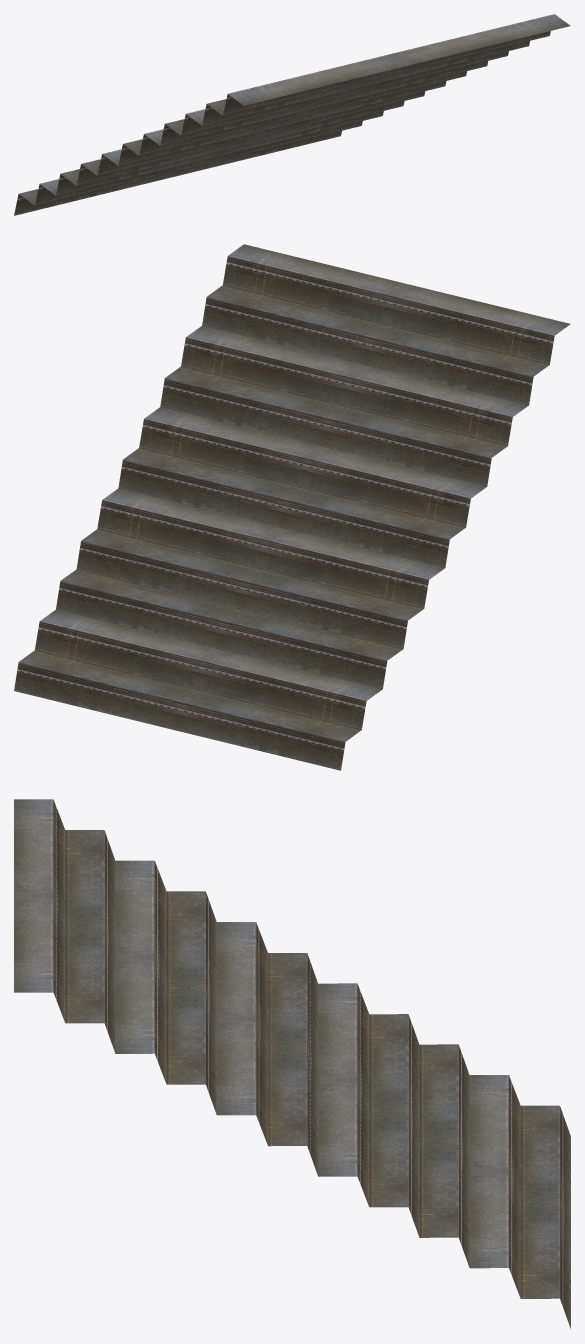
The model's file is dcfx2_louti_03.FBX.
3 views of the same model, one above another, from view 1: azimuth 30°, elevation 25°; view 2: azimuth 150°, elevation 25°; view 3: azimuth 270°, elevation 25° (orthographic). The views are drawn at different scales.
Visible parts, largest first — view 1: dcfx2_louti_03; view 2: dcfx2_louti_03; view 3: dcfx2_louti_03.
Boxes of the visible parts, x1=… form: dcfx2_louti_03: x1=14, y1=14, x2=570, y2=215; dcfx2_louti_03: x1=14, y1=244, x2=570, y2=770; dcfx2_louti_03: x1=14, y1=799, x2=570, y2=1328.
Size of the model in its own units: 591 by 481 by 720.
